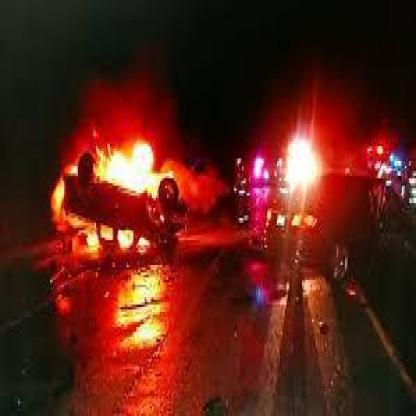fire: (55, 127, 183, 247), (286, 128, 322, 194)
